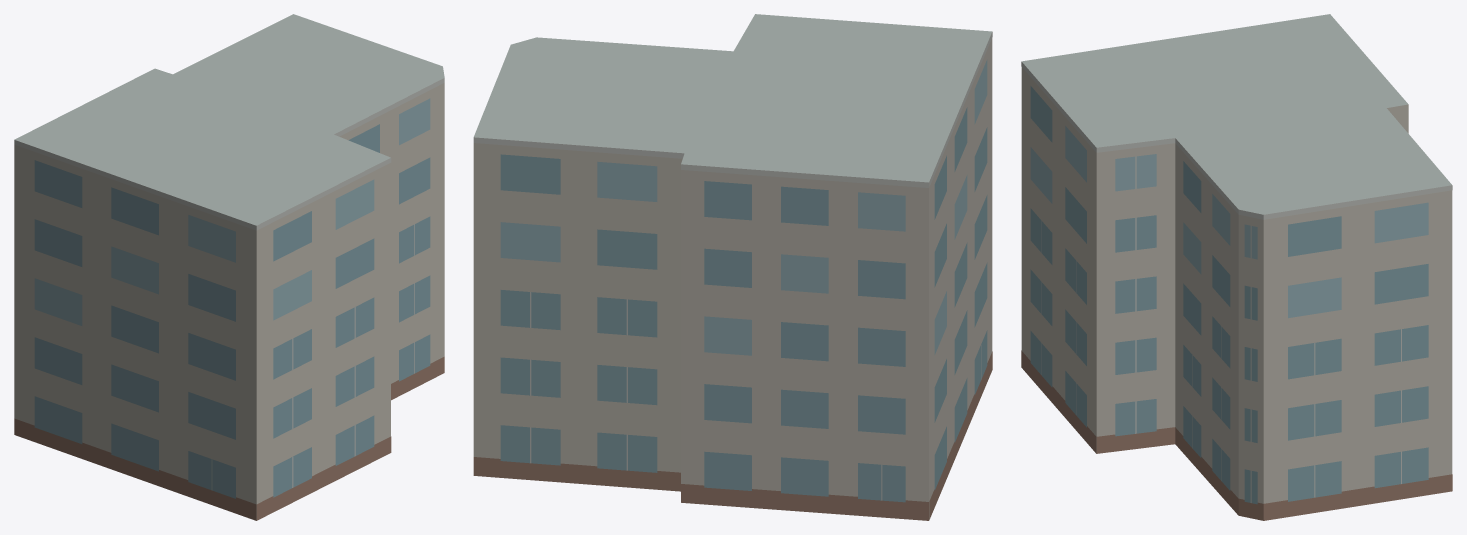
Rendered from survey-upis-32524068.glb.
3 renders of one model, left to right at view 1: azimuth 30°, elevation 25°; view 2: azimuth 150°, elevation 25°; view 3: azimuth 270°, elevation 25°, orthographic. The views are drawn at different scales.
Parts seen in each view (by area): view 1: survey-upis-32524068.tmp; view 2: survey-upis-32524068.tmp; view 3: survey-upis-32524068.tmp.
Boxes of the visible parts, x1,y1,x2,y2 form: survey-upis-32524068.tmp: (14,14,444,520); survey-upis-32524068.tmp: (473,14,992,520); survey-upis-32524068.tmp: (1021,14,1452,520).
Size of the model in its own units: 20.69 by 14.7 by 18.77.
